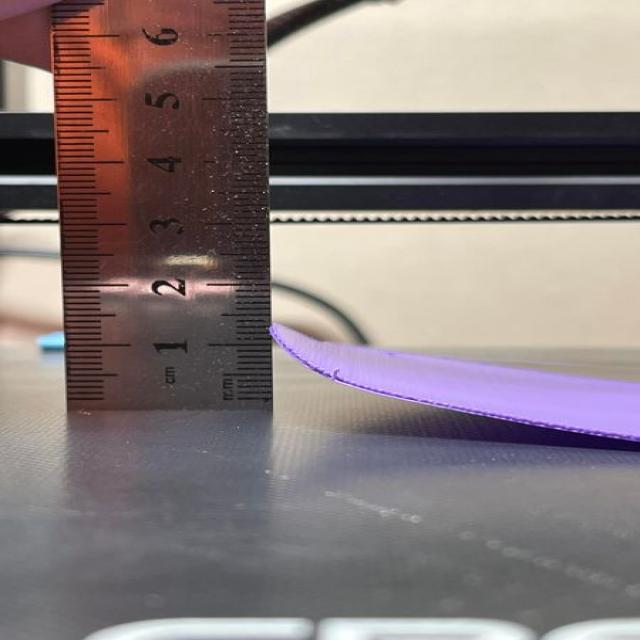Warping: (268, 333, 598, 463)
